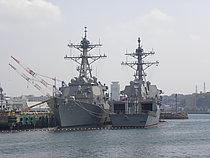MIL_Ship: (45, 27, 109, 128), (109, 35, 162, 129)
